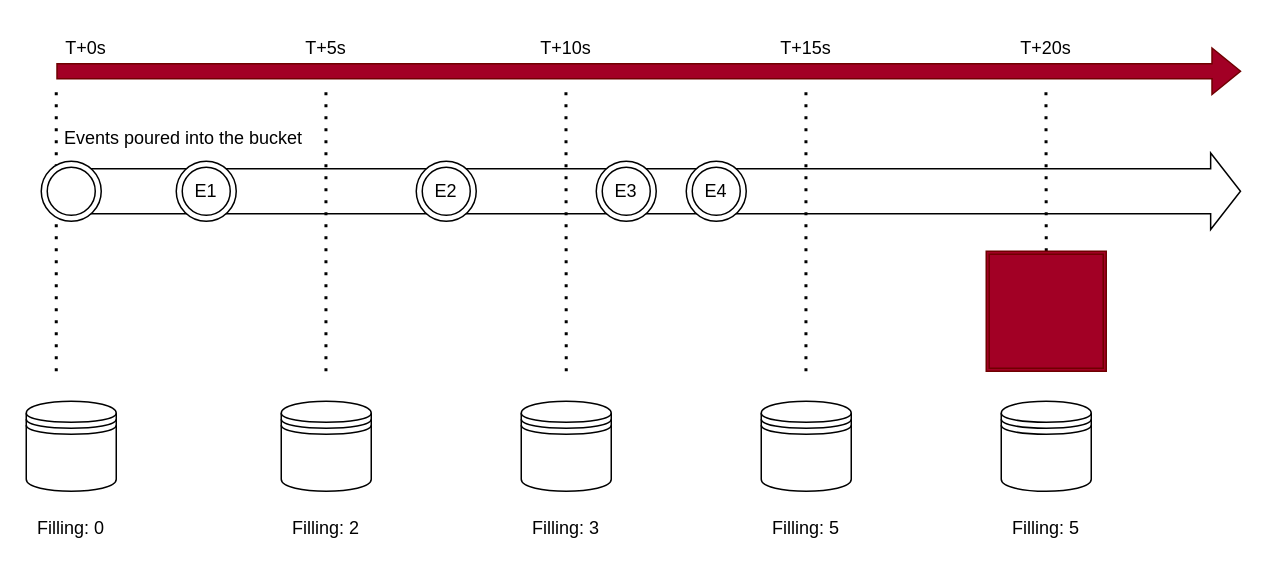
The diagram is 1268 pixels wide and 576 high, and some of its shapes have lost their labels. Here are the shapes that lost their labels. From the top down, the centre of each, then its label:
the point at 70,190: E0
the point at 1045,310: OVERFLOW
